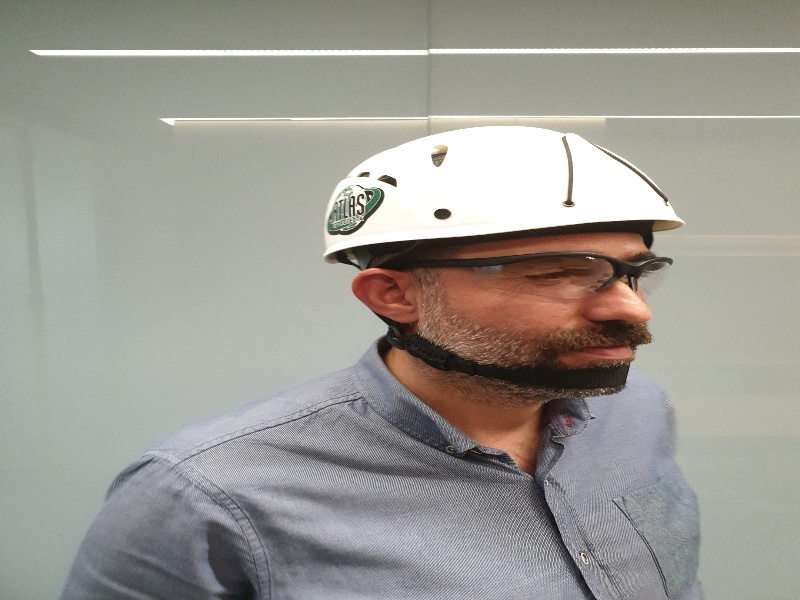Baret: (323, 125, 681, 241)
Gozluk: (392, 249, 681, 304)
